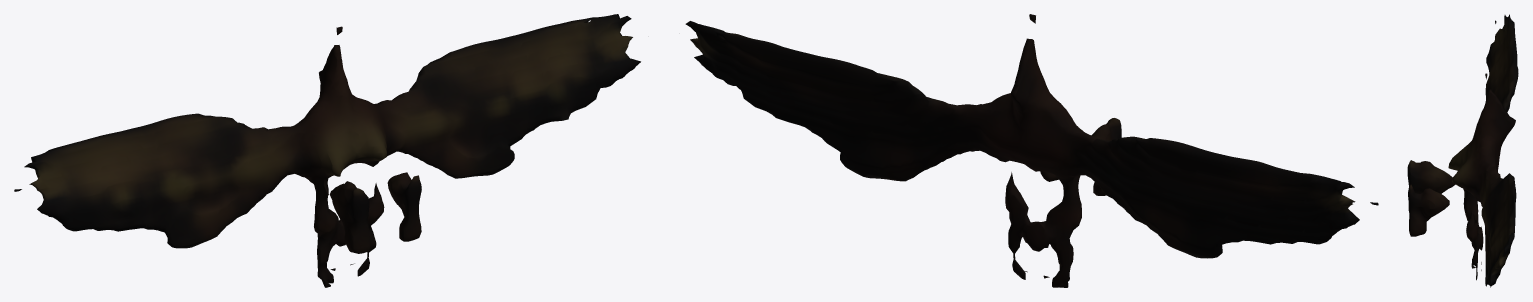
3 views of the same model, side by side, from view 1: azimuth 30°, elevation 25°; view 2: azimuth 150°, elevation 25°; view 3: azimuth 270°, elevation 25° (orthographic). The views are drawn at different scales.
Visible parts, largest first — view 1: plyFile; view 2: plyFile; view 3: plyFile.
Boxes of the visible parts, x1,y1,x2,y2 form: plyFile: (14,14,640,287); plyFile: (685,14,1378,287); plyFile: (1407,14,1518,287).
Size of the model in its own units: 196 by 73.37 by 36.66.
